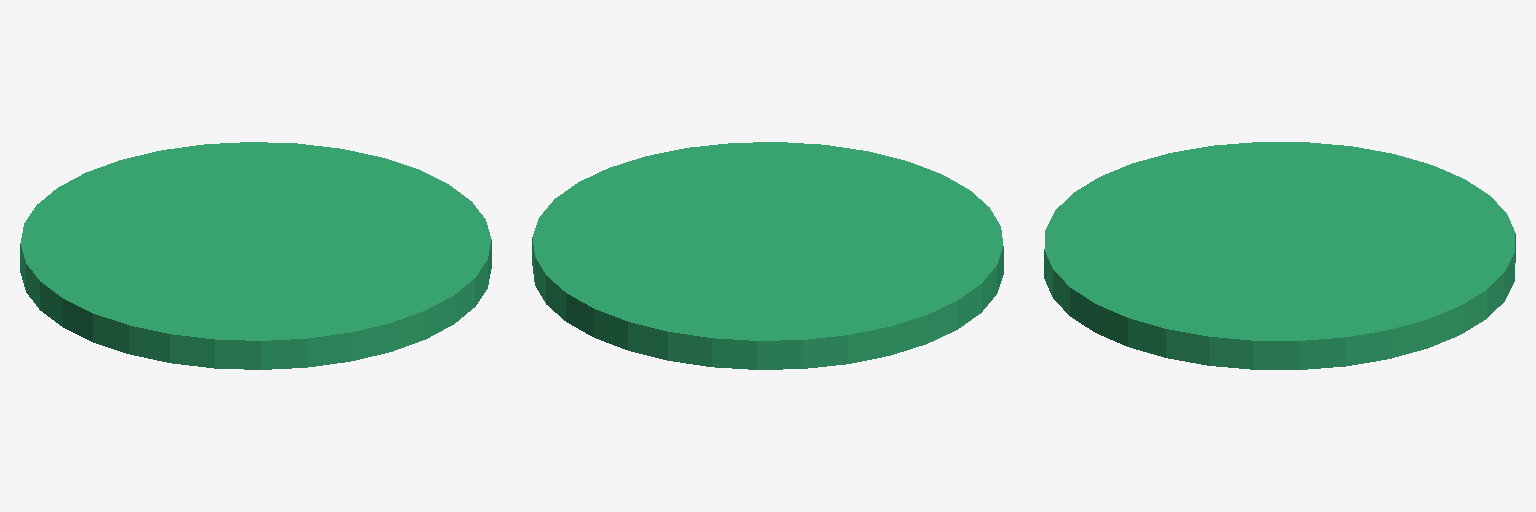
The robot description file, URDF, robot "Interference":
<?xml version="1.0"?>
<robot name="Interference">
  <link name="baseLink">
    <inertial>
      <origin xyz="0.0 0.0 0.0" rpy="0.0 0.0 0.0"/>
      <inertia ixx="0.0" ixy="0.0" ixz="0.0" iyy="0.0" iyz="0.0" izz="0.0"/>
      <mass value="0"/>
    </inertial>
    <visual>
      <origin xyz="0.0 0.0 0.0" rpy="0.0 0.0 0.28200153703849407"/>
      <geometry>
        <cylinder radius="0.07352896110496854" length="0.01"/>
      </geometry>
      <material name="color">
        <color rgba="0.25038762659985814 0.7224809677656958 0.4916196809952885 1.0"/>
      </material>
    </visual>
  </link>
</robot>

--- Render facts (derived) ---
The picture shows the robot from 3 angles, left to right: view 1: azimuth 30°, elevation 25°; view 2: azimuth 150°, elevation 25°; view 3: azimuth 270°, elevation 25°; orthographic projection.
Robot: Interference — 1 links, 0 joints (none); root link baseLink; default pose: every joint at zero.
Links seen in each view (by area): view 1: baseLink; view 2: baseLink; view 3: baseLink.
Link boxes in pixels (x1,y1,x2,y2): baseLink: (20,142,491,369); baseLink: (532,142,1003,369); baseLink: (1044,142,1515,369).
Size in the robot's own frame: 0.1465 by 0.1465 by 0.01 metres.
Geometry: primitives only (box / cylinder / sphere), no mesh files.
